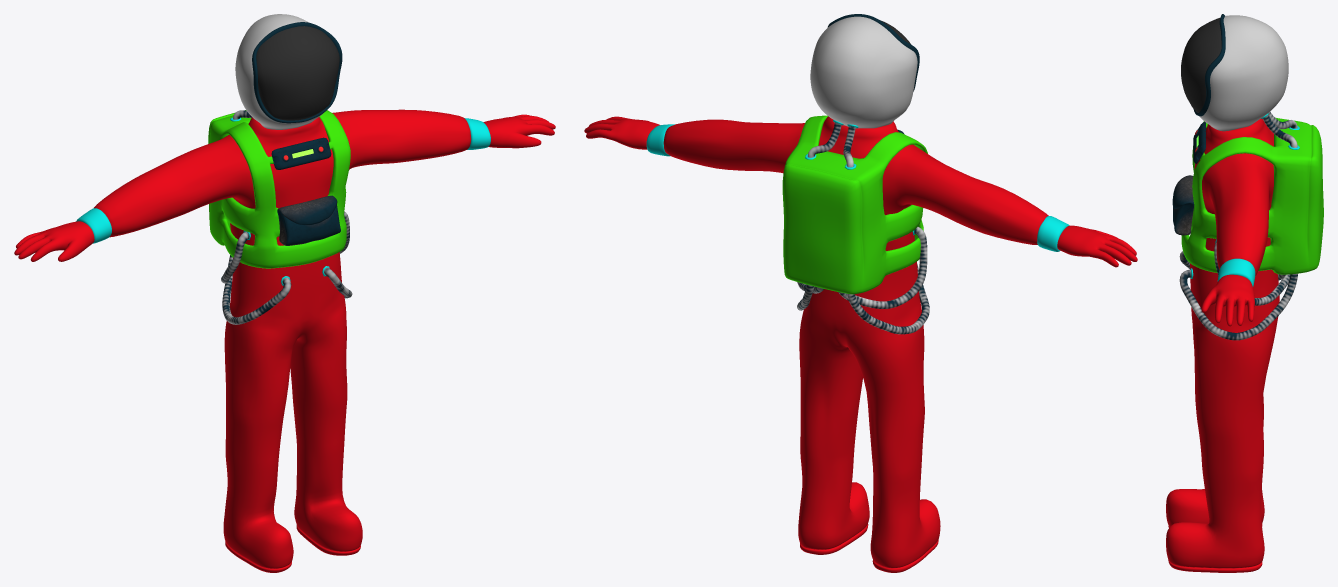
The model's file is v12_fullModel.fbx.
3 renders of one model, left to right at view 1: azimuth 30°, elevation 25°; view 2: azimuth 150°, elevation 25°; view 3: azimuth 270°, elevation 25°, orthographic. The views are drawn at different scales.
Visible parts, largest first — view 1: Cuerpo; view 2: Cuerpo; view 3: Cuerpo.
Part boxes in pixels (x1,y1,x2,y2): Cuerpo: (14,14,555,572); Cuerpo: (584,14,1137,572); Cuerpo: (1166,14,1323,572).
Bounding box in the file's own units: 315 × 293 × 79.24.
